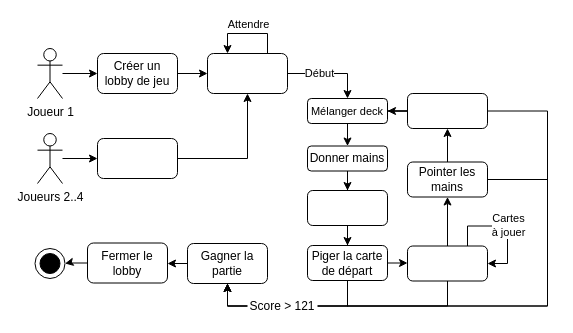
Image size: 573x333. Some labels were removed from this diagram. The box of each missing label's shape, as (x1, y1, x2, y2) in pixels:
Construire le crib: (306, 190, 388, 226)
Gérer le lobby: (206, 52, 288, 94)
Jouer les mains: (406, 245, 488, 281)
Pointer le crib: (406, 92, 488, 128)
Rejoindre un lobby de jeu: (96, 138, 178, 178)
